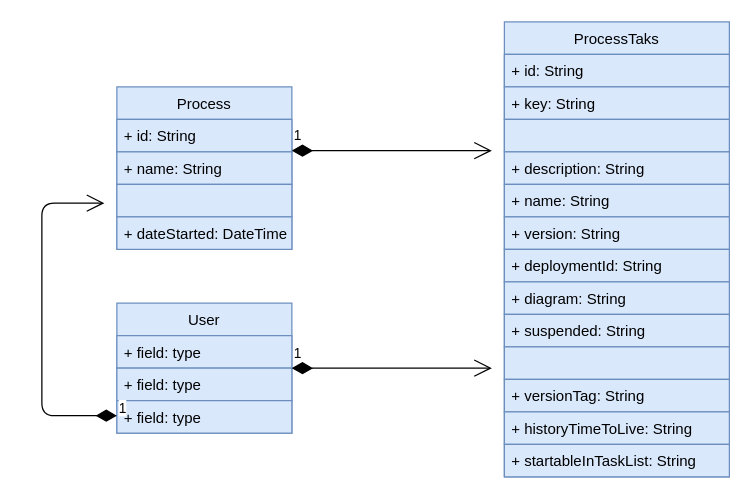
The diagram is 751 pixels wide and 503 high, and some of its shapes have lost their labels. Here are the shapes that lost their labels. From the top down, the centre of each, then its label:
At [616,135]: "+ category: String".
At [204,200]: "+ creatorId: User".
At [616,362]: "+ tentantId: String".
